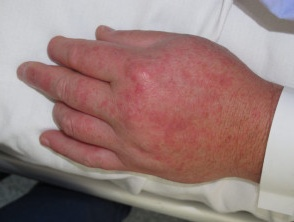SJS-TEN: (25, 36, 260, 173)
